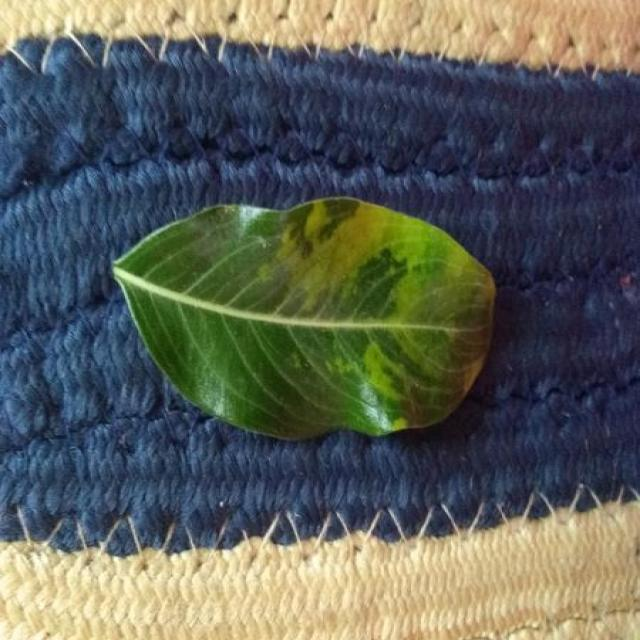catharanthus: (113, 198, 495, 439)
defectedcatharanthus: (127, 199, 495, 327)
